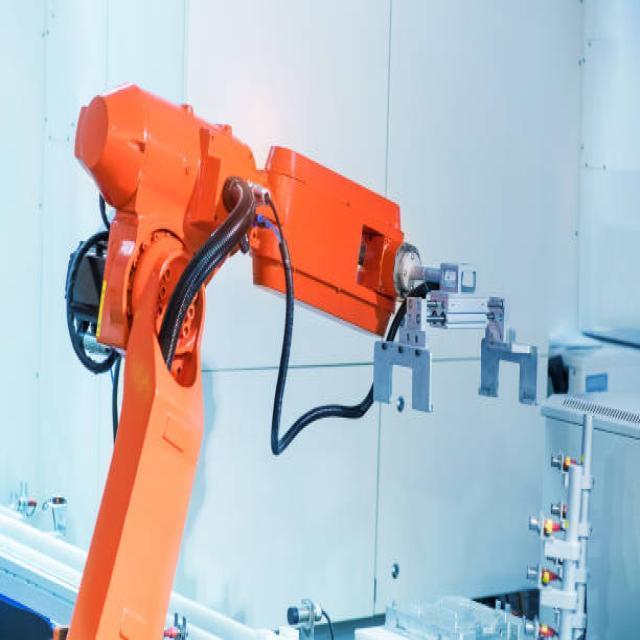Robotic-arm: (60, 76, 410, 640)
